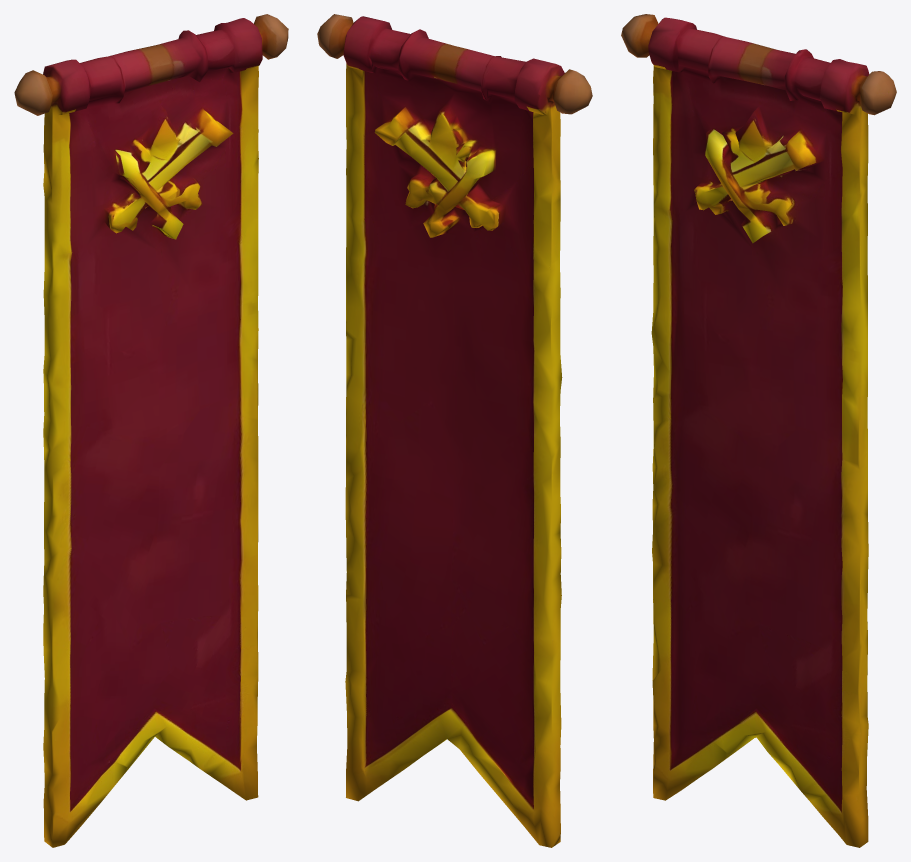
Rendered from camp_banner-CyEfZkD0.glb.
3 views of the same model, side by side, from view 1: azimuth 30°, elevation 25°; view 2: azimuth 150°, elevation 25°; view 3: azimuth 330°, elevation 25° (orthographic).
Visible parts, largest first — view 1: tripo_node_53423e31-a79f-4cf0-a9c4-ae20870f5616; view 2: tripo_node_53423e31-a79f-4cf0-a9c4-ae20870f5616; view 3: tripo_node_53423e31-a79f-4cf0-a9c4-ae20870f5616.
Part boxes in pixels (left/top/right/bottom): tripo_node_53423e31-a79f-4cf0-a9c4-ae20870f5616: left=14, top=14, right=288, bottom=847; tripo_node_53423e31-a79f-4cf0-a9c4-ae20870f5616: left=317, top=14, right=592, bottom=847; tripo_node_53423e31-a79f-4cf0-a9c4-ae20870f5616: left=621, top=14, right=896, bottom=847.
Bounding box in the file's own units: 0.9413 × 2.6 × 0.1949.
Materials: 1 (1 with a texture image).
